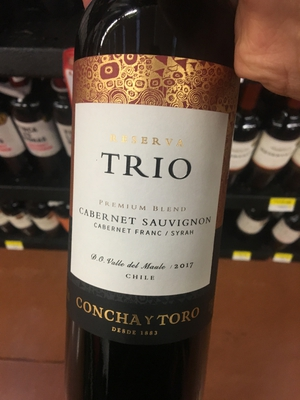trio cabernet sauvignon: (65, 25, 239, 398)
